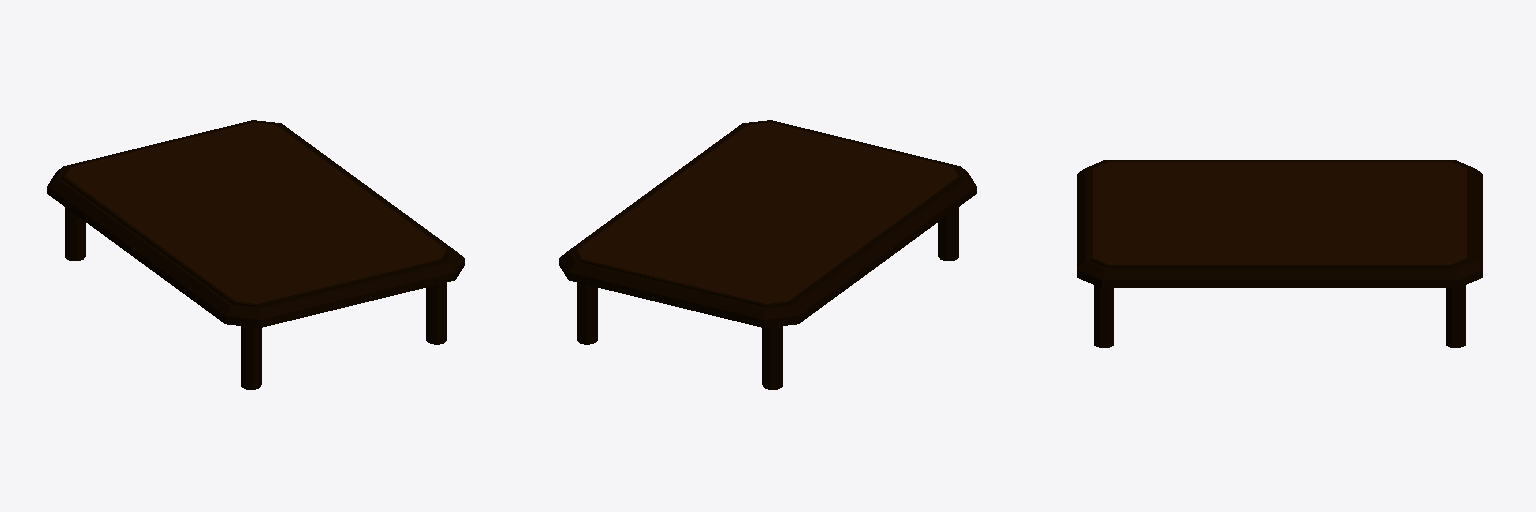
The model's file is table.obj.
The picture shows the model from 3 angles: view 1: azimuth 30°, elevation 25°; view 2: azimuth 150°, elevation 25°; view 3: azimuth 270°, elevation 25°; orthographic projection.
Parts seen in each view (by area): view 1: Cube.001; view 2: Cube.001; view 3: Cube.001.
Part boxes in pixels (x1,y1,x2,y2): Cube.001: (47, 120, 464, 389); Cube.001: (559, 120, 976, 389); Cube.001: (1077, 160, 1482, 347).
Size of the model in its own units: 3.61 by 1.24 by 5.32.